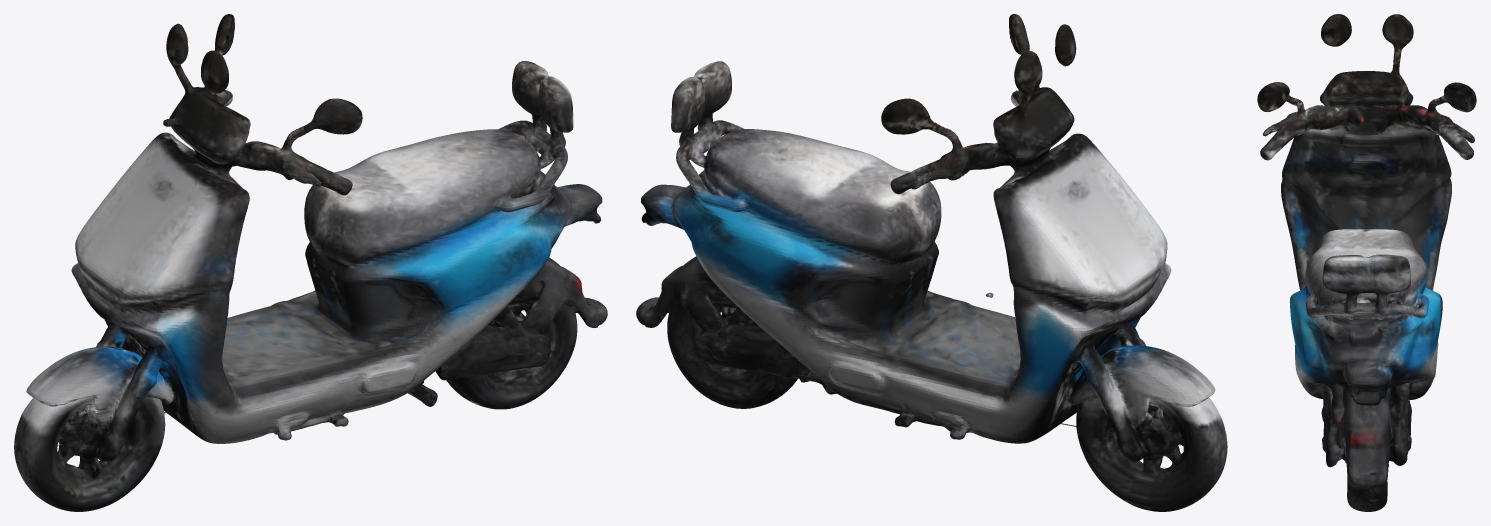
3 renders of one model, left to right at view 1: azimuth 30°, elevation 25°; view 2: azimuth 150°, elevation 25°; view 3: azimuth 270°, elevation 25°, orthographic. The views are drawn at different scales.
Visible parts, largest first — view 1: geometry_0; view 2: geometry_0; view 3: geometry_0.
Boxes of the visible parts, box(x1,y1,x2,y2) form: geometry_0: box(14, 14, 607, 511); geometry_0: box(636, 14, 1227, 511); geometry_0: box(1257, 14, 1476, 511).
Size of the model in its own units: 1.8 by 1.3 by 0.7018.
1 material, 1 textured.
